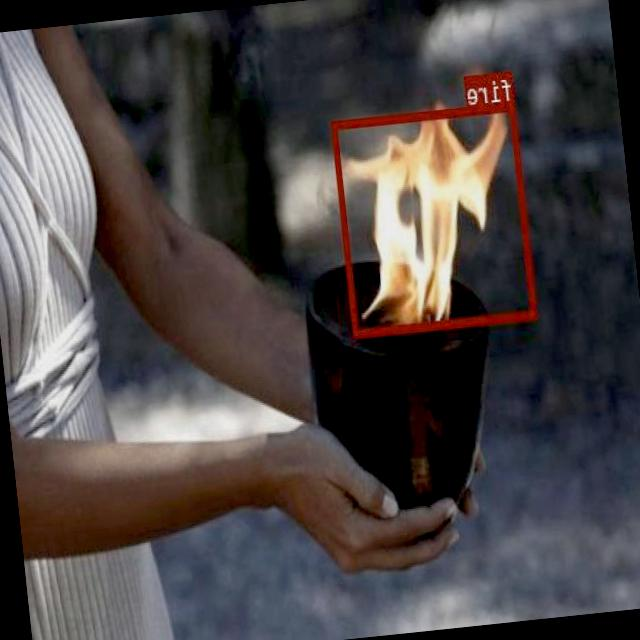fire: (331, 100, 538, 336)
